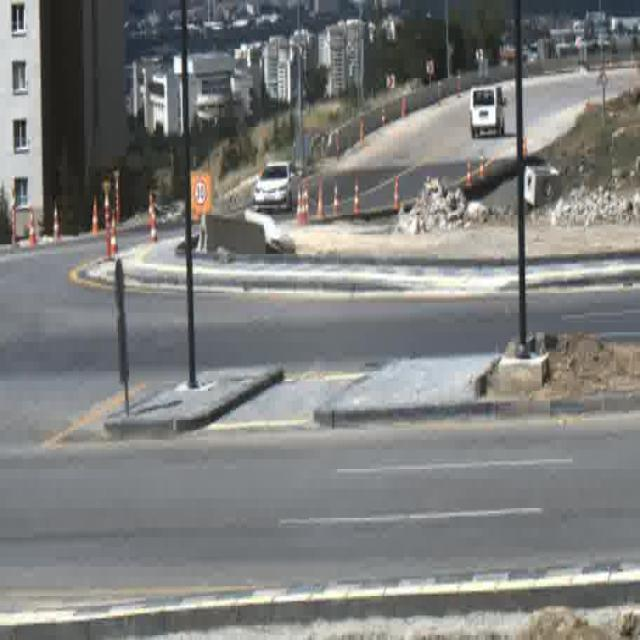Car: (252, 161, 300, 210), (471, 86, 506, 141)
